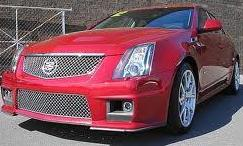front_view: (5, 41, 167, 134)
headlight: (109, 40, 159, 82)
side_glass: (195, 8, 223, 36)
